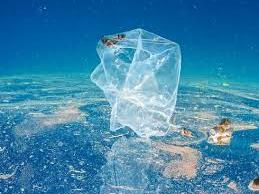Trash: (84, 28, 198, 143)
